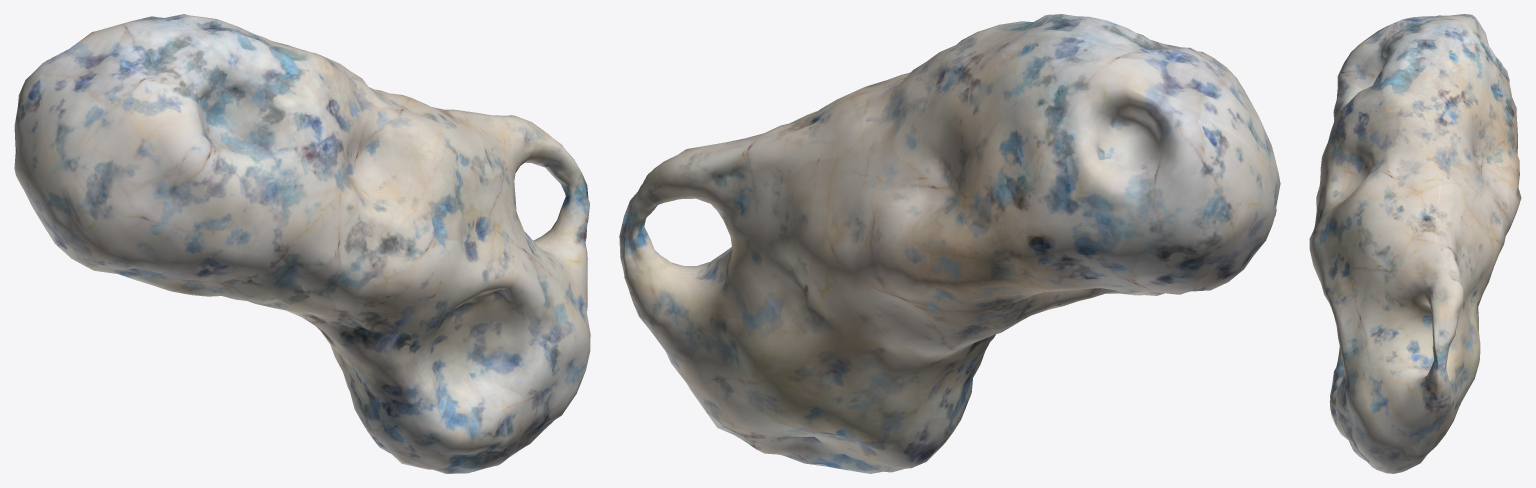
Rendered from asteroid.obj.
The picture shows the model from 3 angles, left to right: view 1: azimuth 30°, elevation 25°; view 2: azimuth 150°, elevation 25°; view 3: azimuth 270°, elevation 25°; orthographic projection. The views are drawn at different scales.
Visible parts, largest first — view 1: Group57342; view 2: Group57342; view 3: Group57342.
Boxes of the visible parts, x1,y1,x2,y2 form: Group57342: (14,14,590,473); Group57342: (619,14,1280,473); Group57342: (1309,14,1521,473).
Bounding box in the file's own units: 2.48 × 2 × 1.13.
Materials: 1 (1 with a texture image).
